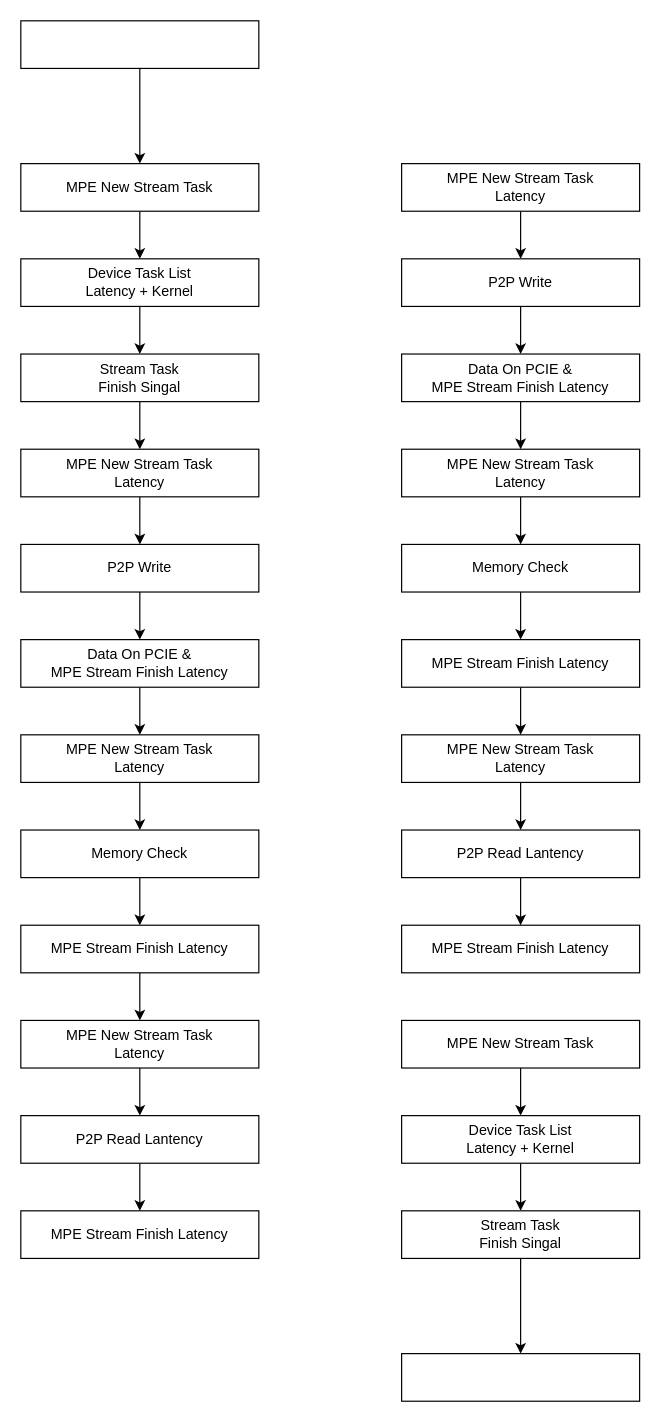
Image size: 660x1422. Some labels were removed from this diagram. The box of each missing label's shape, as (x1, y1, x2, y2) in pixels:
Get the Finish Signal From Device: (400, 1352, 640, 1401)
Send Task To Stream List From Host: (20, 20, 259, 68)
